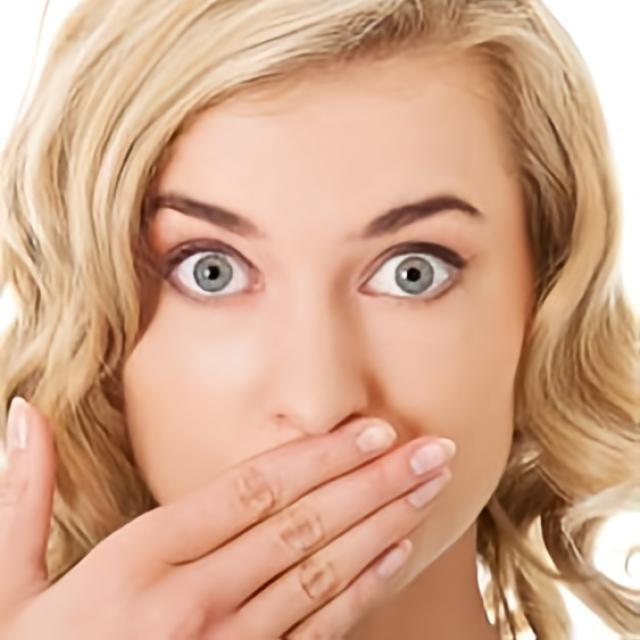surprise: (117, 31, 530, 626)
